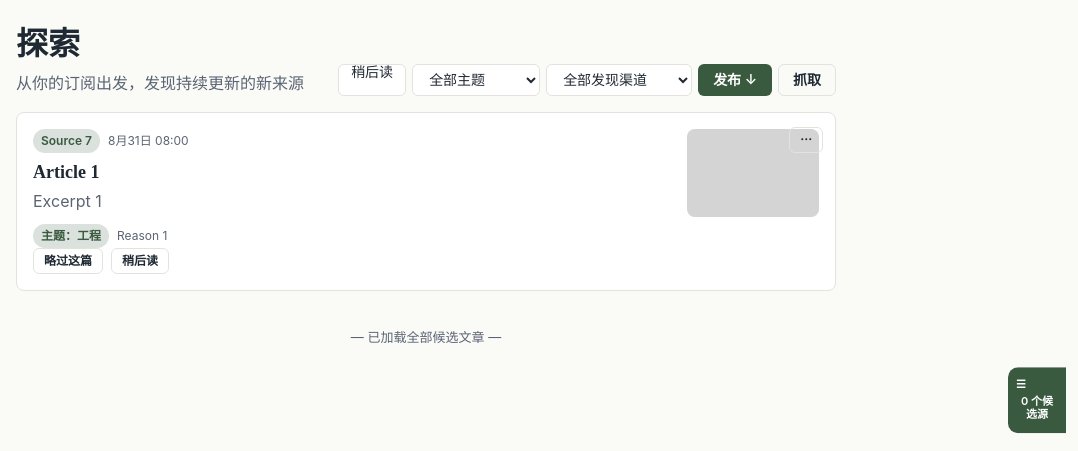
Test: ExplorePage › keeps the empty-state undo available when deleting feedback fails, then allows retry
The image size is (1078, 451).
Expected: the button "Article 1" is shown, [33,161,100,184]
Click the button named "Article 1 的更多操作" at (806, 140), box [789,127,823,153]
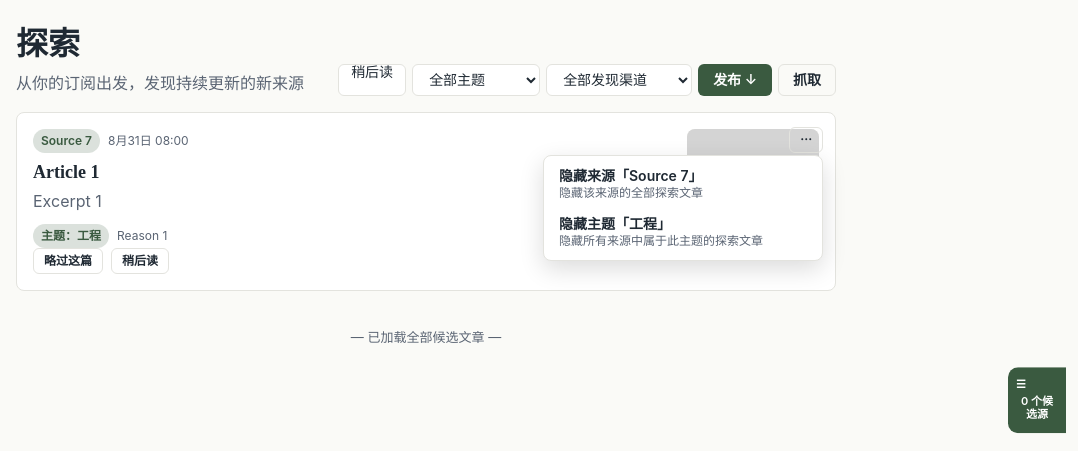
Click the menu item "隐藏来源「Source 7」 隐藏该来源的全部探索文章" at (683, 184), box [548,160,818,208]
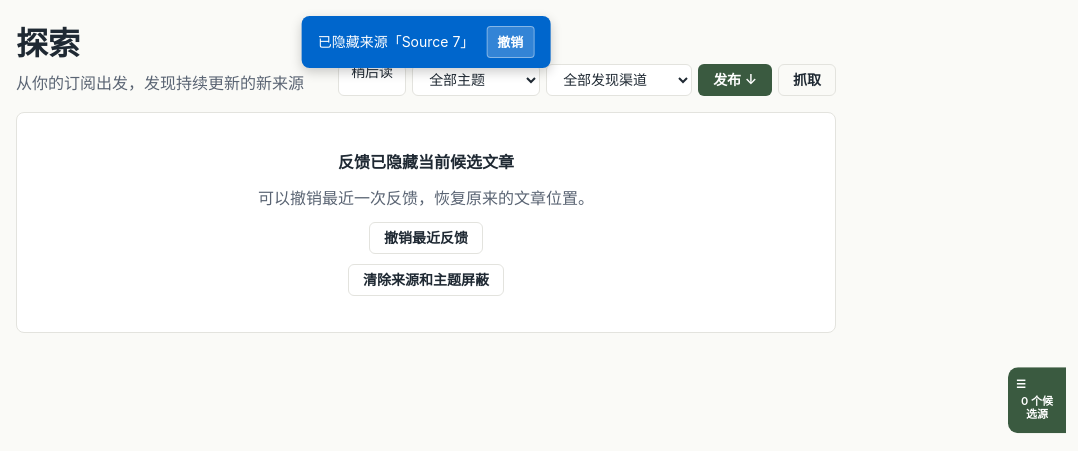
Click the button "撤销最近反馈" at (426, 238), box [369,222,483,254]
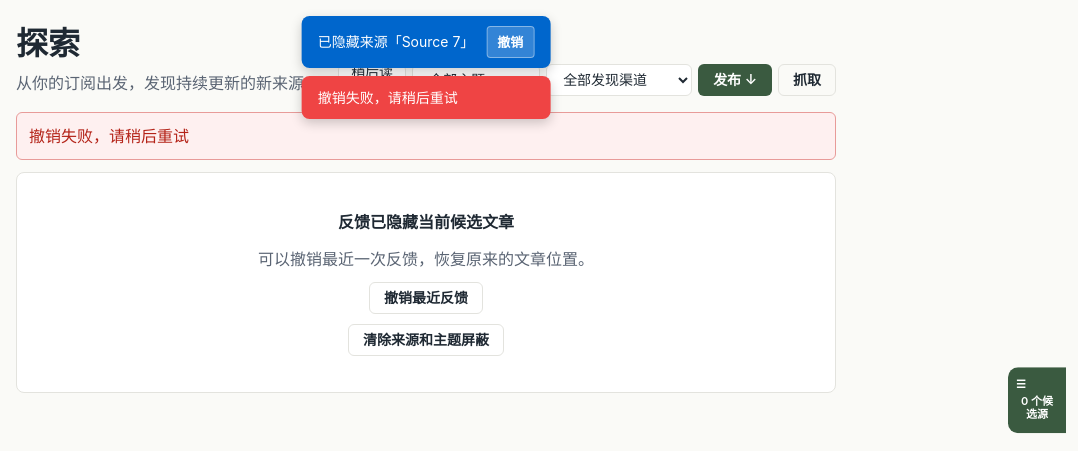
Expected: the button "撤销最近反馈" is shown
Expected: the message shows "撤销失败", [29,126,189,146]
Click the button "撤销最近反馈" at (426, 298), box [369,282,483,314]
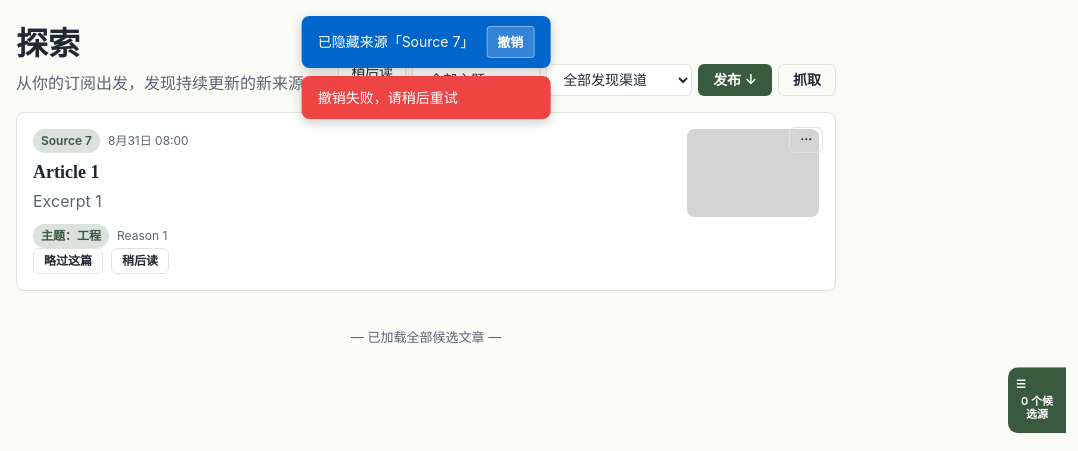
Expected: the button "Article 1" is shown, [33,161,100,184]
